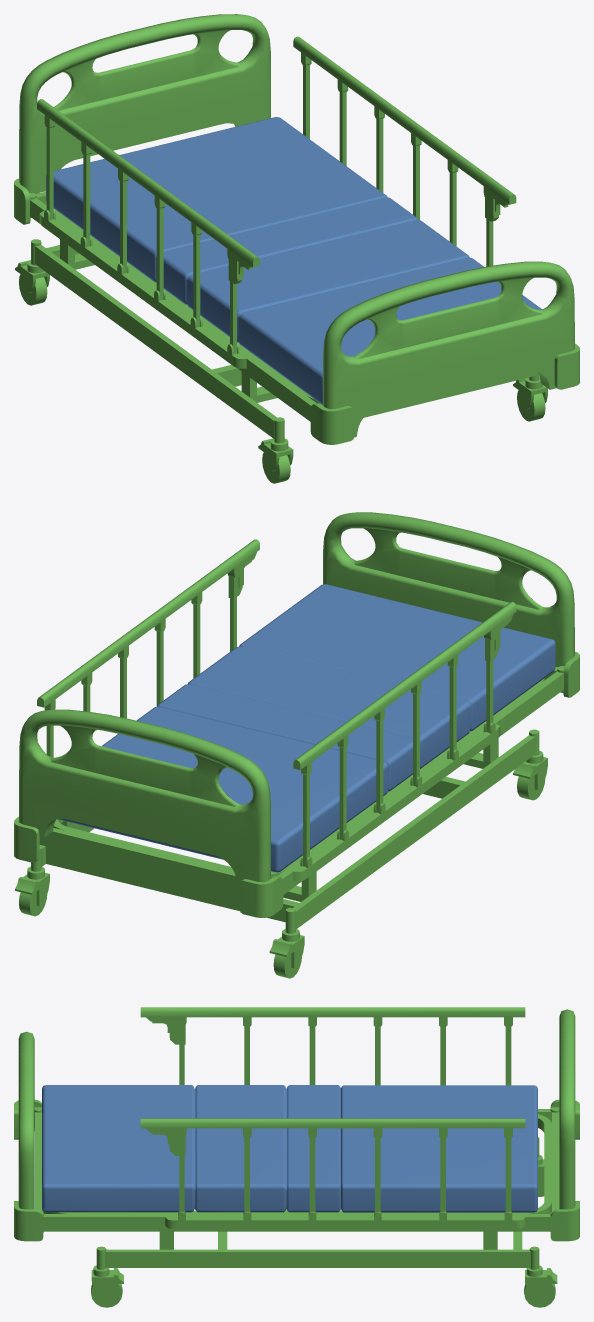
File: SM_HospitalBed_02a.FBX
3 views of the same model, one above another, from view 1: azimuth 30°, elevation 25°; view 2: azimuth 150°, elevation 25°; view 3: azimuth 270°, elevation 25° (orthographic). The views are drawn at different scales.
Parts seen in each view (by area): view 1: SM_HospitalBed_02a_LOD0; view 2: SM_HospitalBed_02a_LOD0; view 3: SM_HospitalBed_02a_LOD0.
Part boxes in pixels (x1,y1,x2,y2): SM_HospitalBed_02a_LOD0: [14, 14, 579, 483]; SM_HospitalBed_02a_LOD0: [14, 512, 579, 978]; SM_HospitalBed_02a_LOD0: [14, 1007, 579, 1307].
Size of what is drawn, in the model's own units: 109 by 89.09 by 221.
